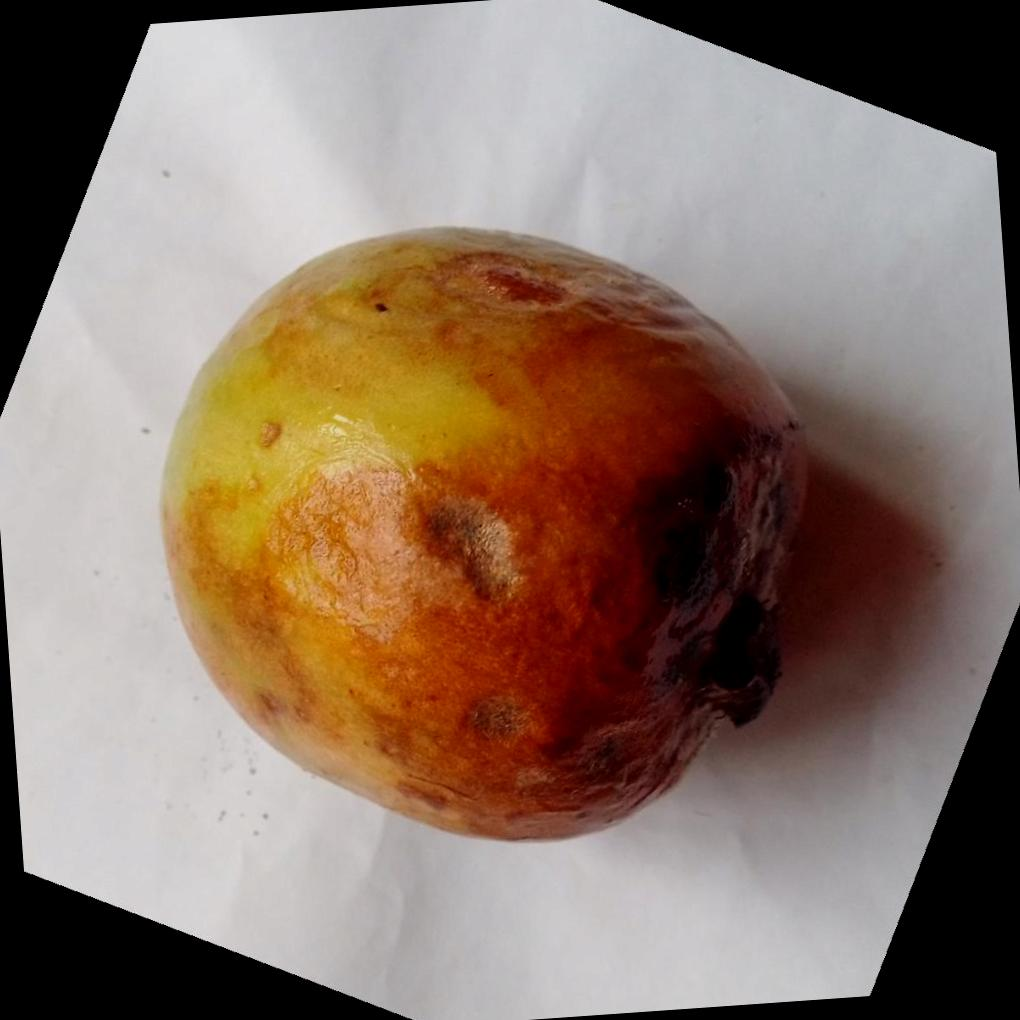FreshOrange: (159, 228, 812, 848)
